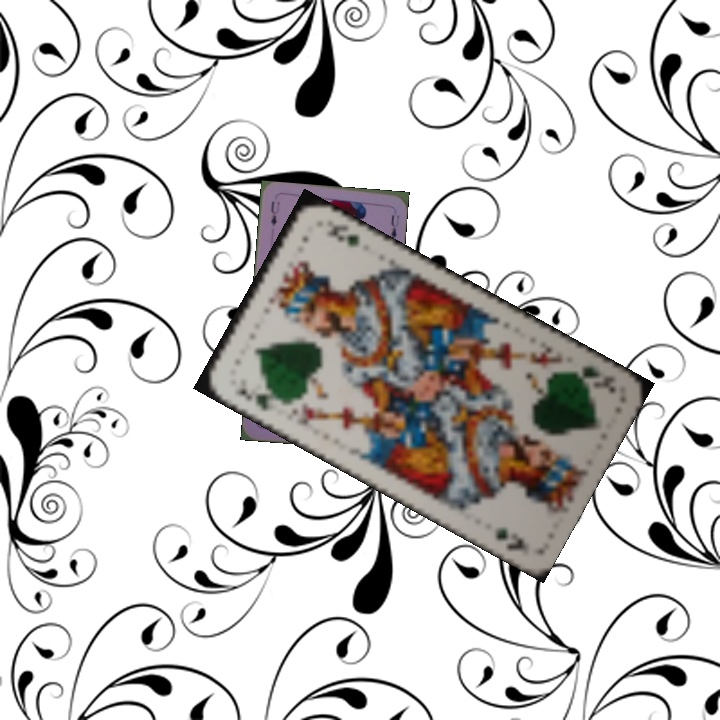EU: (267, 197, 282, 228)
GK: (564, 360, 619, 396), (234, 384, 282, 413)
